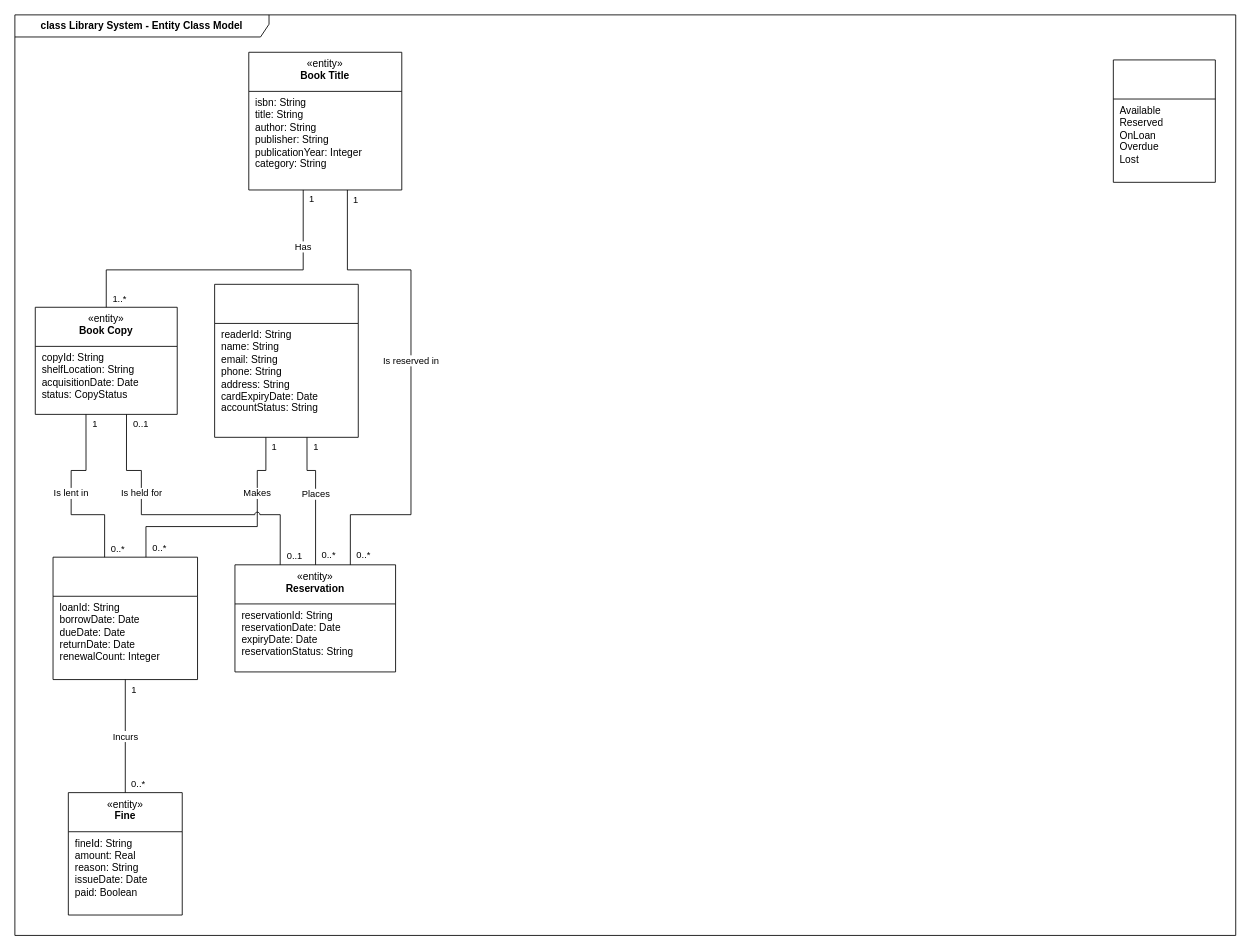
The diagram is 1251 pixels wide and 950 high, and some of its shapes have lost their labels. The box of each missing label's shape, as (x1, y1, x2, y2) in pixels:
«entity» Loan: (52, 556, 198, 680)
«entity» Reader Account: (214, 283, 358, 437)
«enumeration» CopyStatus: (1112, 59, 1215, 182)
